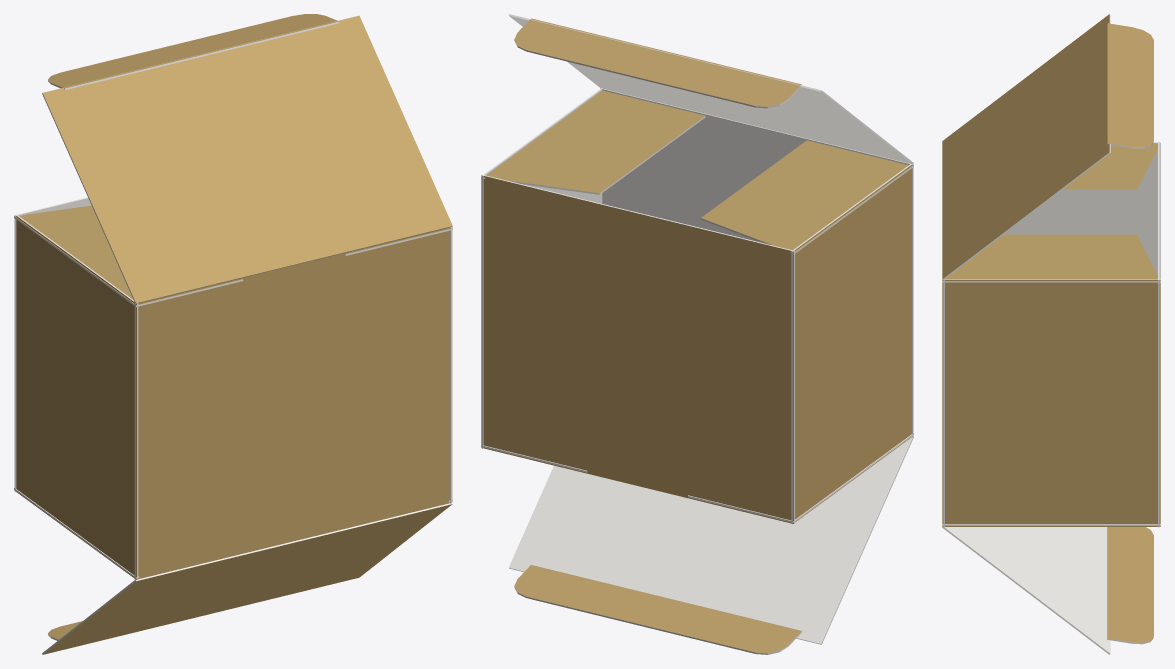
The picture shows the model from 3 angles, left to right: view 1: azimuth 30°, elevation 25°; view 2: azimuth 150°, elevation 25°; view 3: azimuth 270°, elevation 25°; orthographic projection. The views are drawn at different scales.
Visible parts, largest first — view 1: Packive_Box_fefco0210; view 2: Packive_Box_fefco0210; view 3: Packive_Box_fefco0210.
Part boxes in pixels (box(x1,y1,x2,y2)): Packive_Box_fefco0210: box(14, 14, 452, 654); Packive_Box_fefco0210: box(481, 14, 913, 654); Packive_Box_fefco0210: box(942, 14, 1160, 654).
Bounding box in the file's own units: 0.3 × 0.5101 × 0.2.
Materials: 24 (12 with a texture image).
